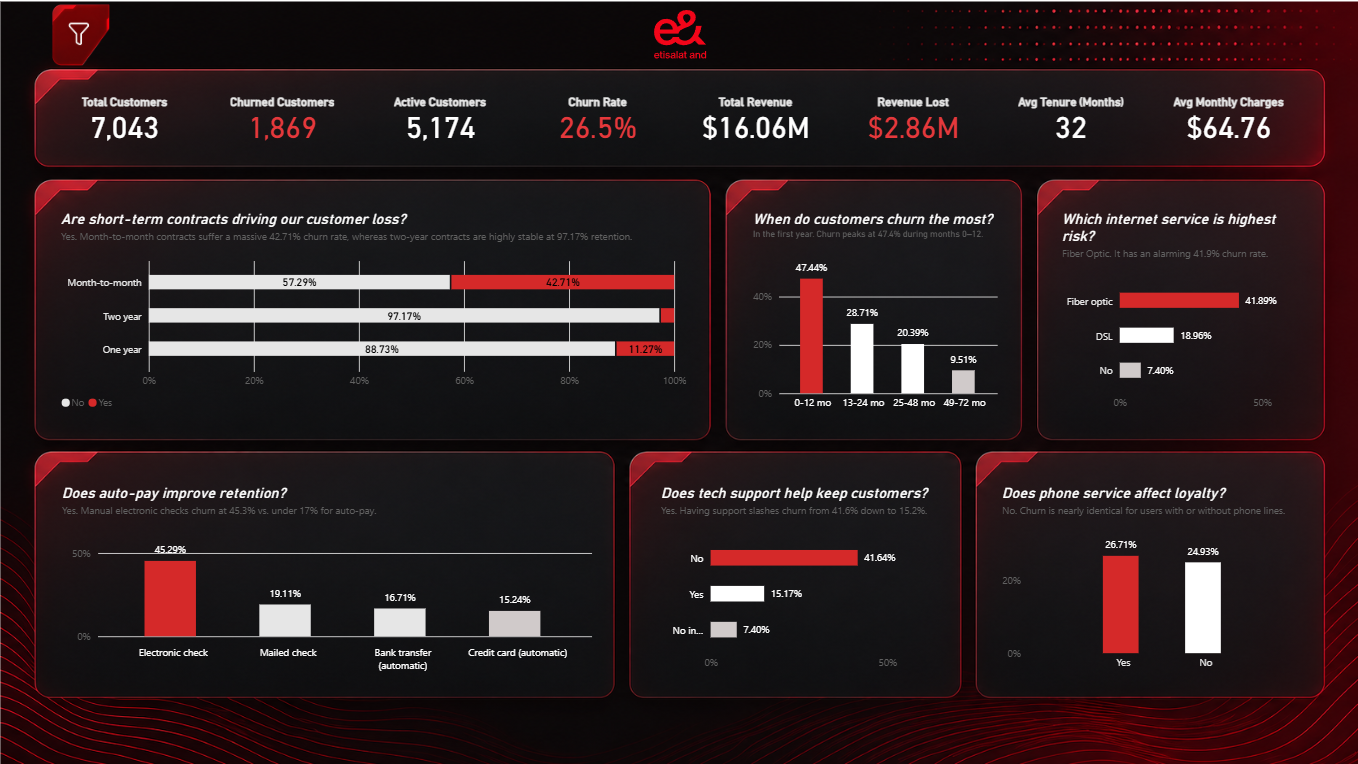

The dashboard page shown, as its layout file describes it:
{"tool":"powerbi","page":{"name":"Overview","canvas":[1920,1080],"ordinal":0},"visuals":[{"type":"cardVisual","fields":{"Data":["_Measures.Total Customer","_Measures.Total Customer Churn","_Measures.Total Active Customer","_Measures.Churn Rate %","_Measures.Total Revenue","_Measures.Total Churn Revenue","_Measures.Avg Customer Tenure","_Measures.Avg Monthly Charges"]},"box":[182.9,160,1545.7,104.3],"z":0},{"type":"image","box":[920,65.9,78.8,81.2],"z":1000},{"type":"clusteredColumnChart","title":"When do customers churn the most?","fields":{"Category":["Fact_Billing_Churn.Tenure_Group"],"Y":["_Measures.Churn Rate %"]},"box":[1032.9,310,332.9,280],"z":2000},{"type":"hundredPercentStackedBarChart","title":"Are short-term contracts driving our customer loss?","fields":{"Category":["Dim_Contract.Contract"],"Series":["Fact_Billing_Churn.Churn"],"Y":["_Measures.Total Customer"]},"box":[182.5,310,801.2,280],"z":3000},{"type":"clusteredBarChart","title":"Which internet service is highest risk?","fields":{"Category":["Dim_Service.Internet_Service"],"Y":["_Measures.Churn Rate %"]},"box":[1413.8,310,325,280],"z":4000},{"type":"clusteredColumnChart","title":"Does auto-pay improve retention?","fields":{"Category":["Dim_Contract.Payment_Method"],"Y":["_Measures.Churn Rate %"]},"box":[182.9,647.1,684.3,262.9],"z":5000},{"type":"clusteredBarChart","title":"Does tech support help keep customers?","fields":{"Category":["Dim_Service.Tech_Support"],"Y":["_Measures.Churn Rate %"]},"box":[920,647.1,365.7,262.9],"z":6000},{"type":"clusteredColumnChart","title":"Does phone service affect loyalty?","fields":{"Category":["Dim_Service.Phone_Service"],"Y":["_Measures.Churn Rate %"]},"box":[1339.6,647.3,398.9,262.6],"z":7000},{"type":"image","box":[182.2,66.5,89.1,83.8],"z":7500}]}

Visuals, with their boxes in screenshot pixels (x1, y1, x2, y2), scaled from the page's 1920x1080 canvas onto the 1358x764 screenshot:
cardVisual - _Measures.Total Customer x _Measures.Total Customer Churn: box(129, 113, 1223, 187)
image: box(651, 47, 706, 104)
"When do customers churn the most?" clusteredColumnChart: box(731, 219, 966, 417)
"Are short-term contracts driving our customer loss?" hundredPercentStackedBarChart: box(129, 219, 696, 417)
"Which internet service is highest risk?" clusteredBarChart: box(1000, 219, 1230, 417)
"Does auto-pay improve retention?" clusteredColumnChart: box(129, 458, 613, 644)
"Does tech support help keep customers?" clusteredBarChart: box(651, 458, 909, 644)
"Does phone service affect loyalty?" clusteredColumnChart: box(947, 458, 1230, 644)
image: box(129, 47, 192, 106)
